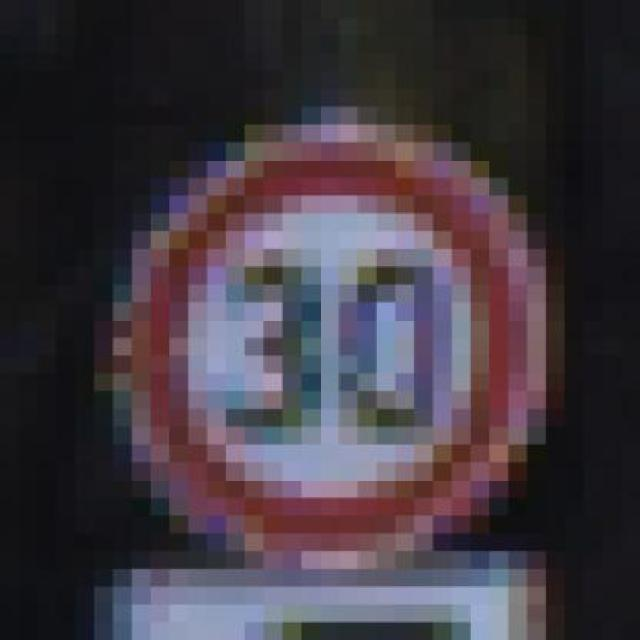Speed Limit 30 KMPh: (56, 89, 584, 569)
